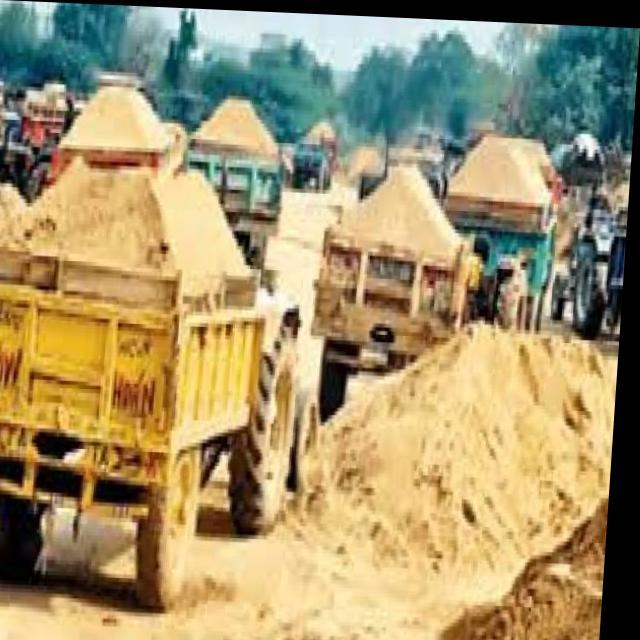uncovered: (0, 173, 278, 582), (318, 162, 472, 362), (188, 93, 298, 240), (448, 119, 554, 238)
